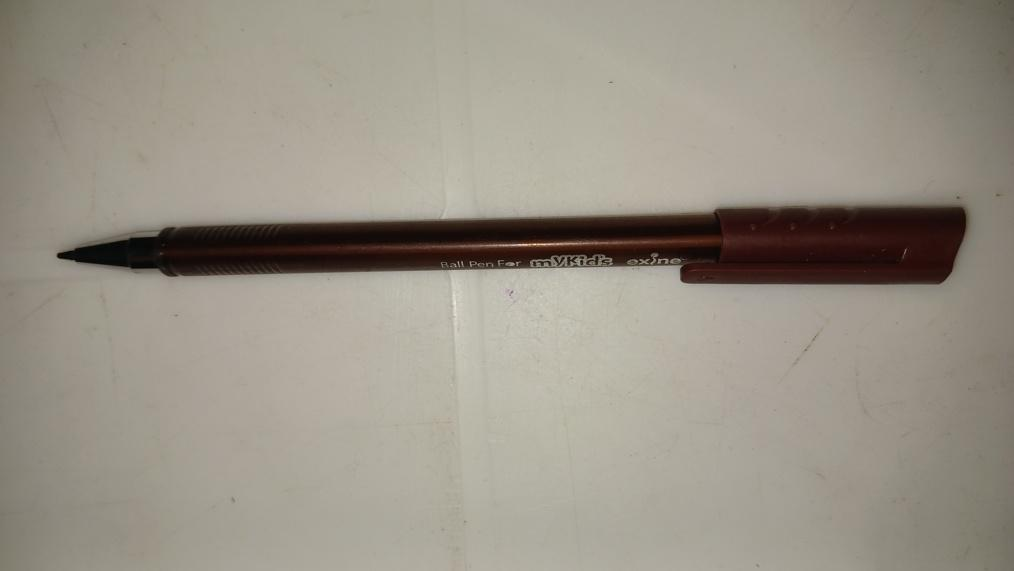pen: (54, 206, 965, 286)
